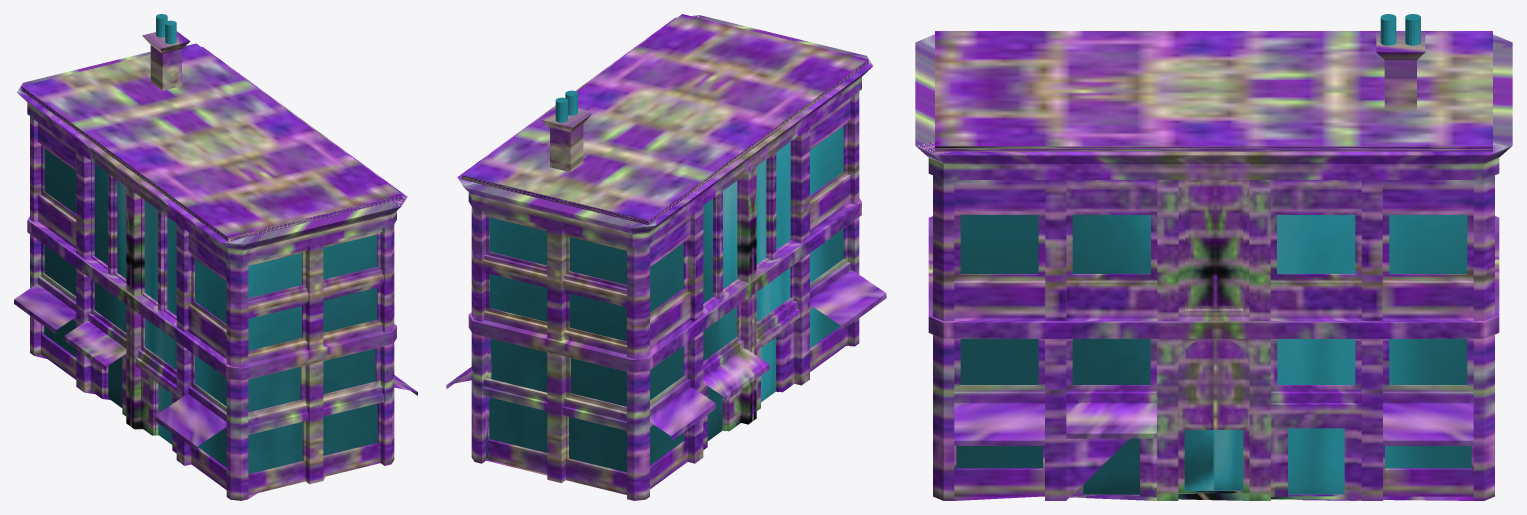
File: abil2.fbx
3 views of the same model, side by side, from view 1: azimuth 30°, elevation 25°; view 2: azimuth 150°, elevation 25°; view 3: azimuth 270°, elevation 25° (orthographic). The views are drawn at different scales.
Parts seen in each view (by area): view 1: abil2; view 2: abil2; view 3: abil2.
Part boxes in pixels (<box>): abil2: <box>14,14,417,500</box>; abil2: <box>446,14,886,500</box>; abil2: <box>915,14,1512,500</box>.
Bounding box in the file's own units: 16.2 × 23.14 × 28.11.
